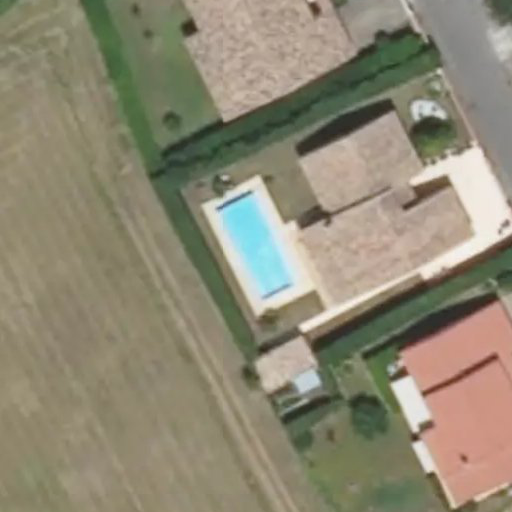pool: (213, 205, 298, 278)
